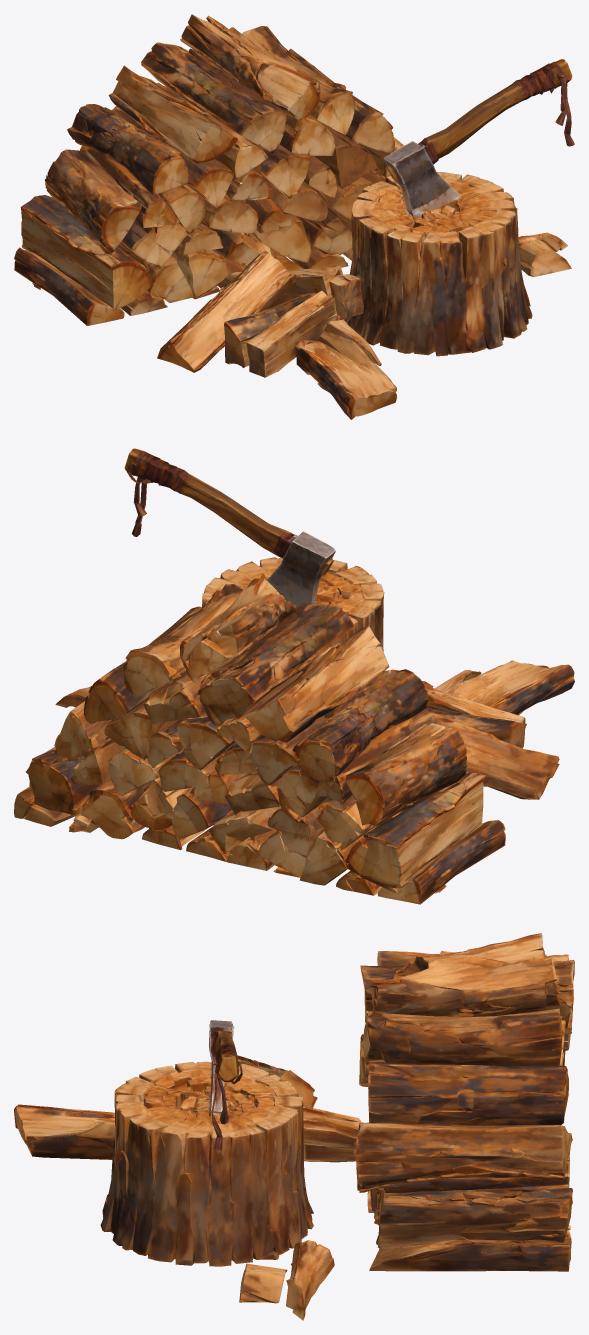
The model's file is firewood.glb.
3 renders of one model, top to bottom at view 1: azimuth 30°, elevation 25°; view 2: azimuth 150°, elevation 25°; view 3: azimuth 270°, elevation 25°, orthographic. The views are drawn at different scales.
Size of the model in its own units: 1.87 by 0.8867 by 1.83.
Materials: 1 (1 with a texture image).
